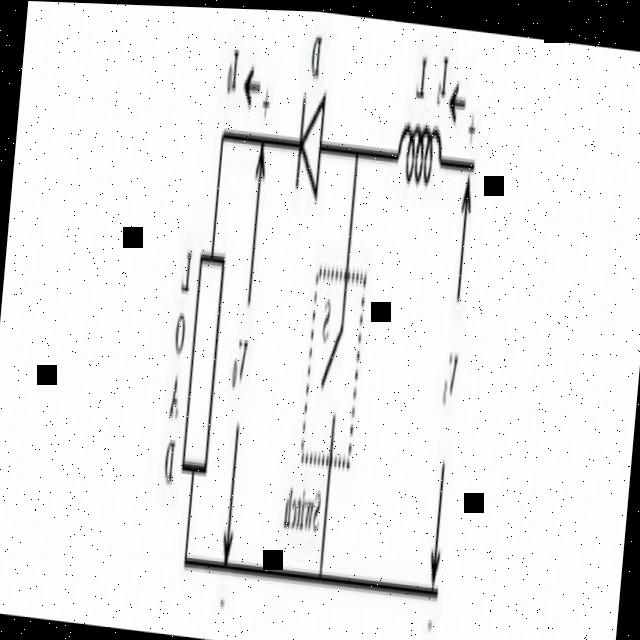diode: (280, 57, 342, 240)
inductor: (379, 84, 447, 231)
resistor: (172, 231, 232, 481)
switch: (302, 246, 364, 507)
